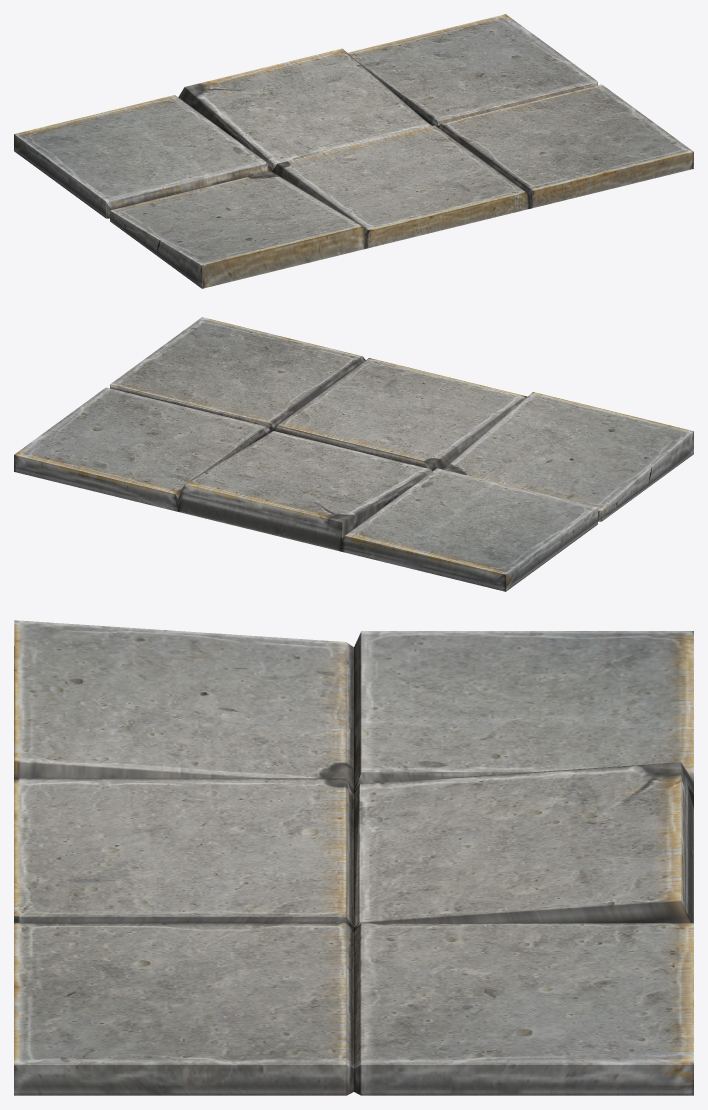
Rendered from pavementC.FBX.
3 renders of one model, top to bottom at view 1: azimuth 30°, elevation 25°; view 2: azimuth 150°, elevation 25°; view 3: azimuth 270°, elevation 25°, orthographic. The views are drawn at different scales.
Visible parts, largest first — view 1: pavementC; view 2: pavementC; view 3: pavementC.
Part boxes in pixels (bbox=[...]): pavementC: bbox=[14, 14, 693, 288]; pavementC: bbox=[14, 317, 693, 591]; pavementC: bbox=[14, 620, 693, 1095].
Bounding box in the file's own units: 90.58 × 4.58 × 60.
Materials: 1 (1 with a texture image).
